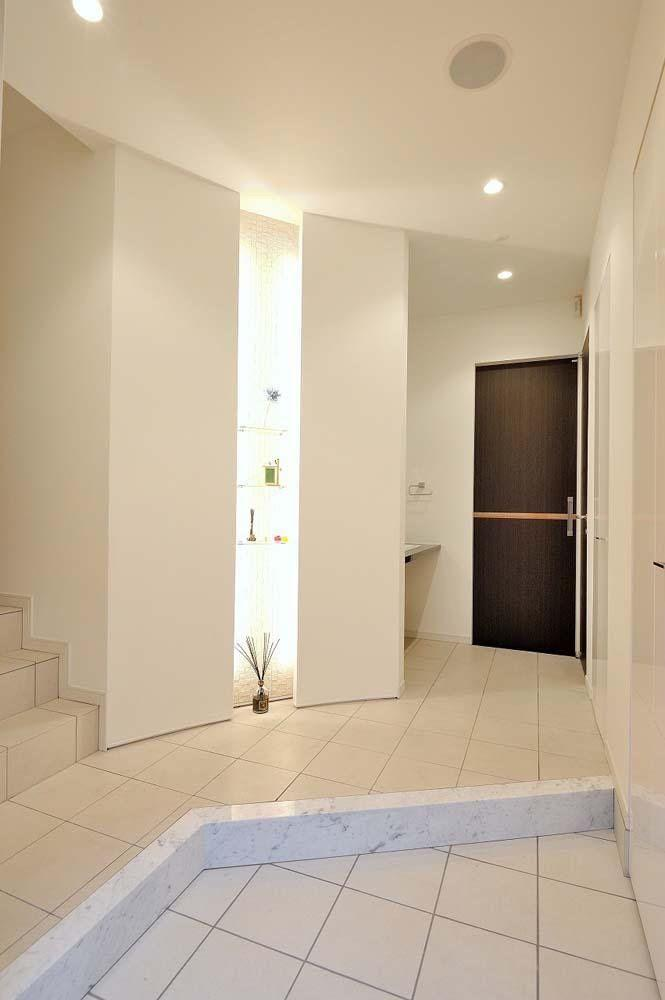floor: (81, 829, 662, 999)
safe: (0, 638, 615, 999)
